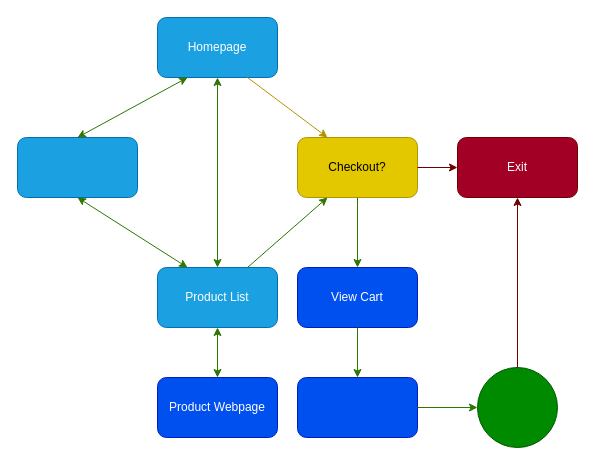
Image size: 595x465. Some labels were removed from this diagram. The centre of each missing label's shape, as x and y in pixels:
"BOUGHT! Email Sent." goes at (x=517, y=407).
"Search Product" goes at (x=77, y=167).
"View Payment" goes at (x=357, y=407).
